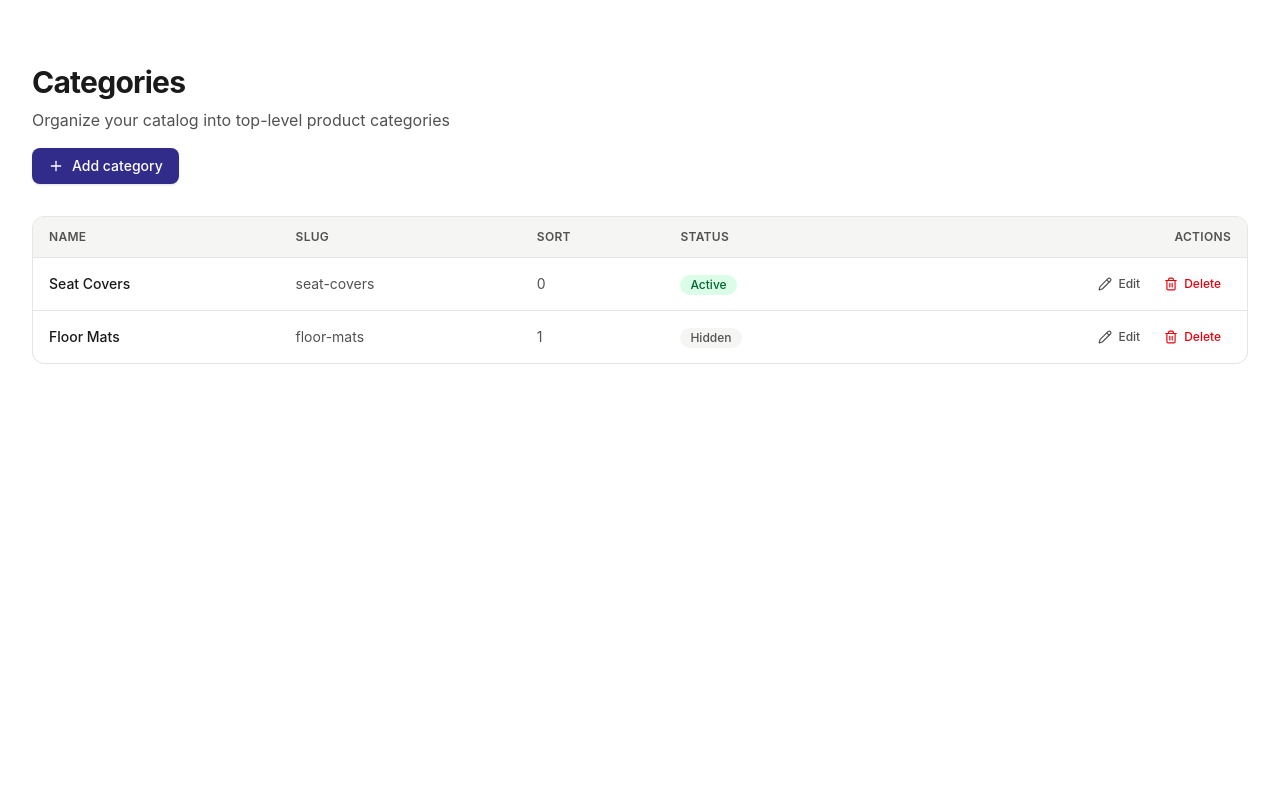
Test case: CategoriesAdminPage › requires confirmation before deleting
Expected: the text "Seat Covers" is shown, [33,258,280,310]
Click the button "Delete" in the row of "Seat Covers".
click(1193, 284)  # box [1154,270,1231,298]
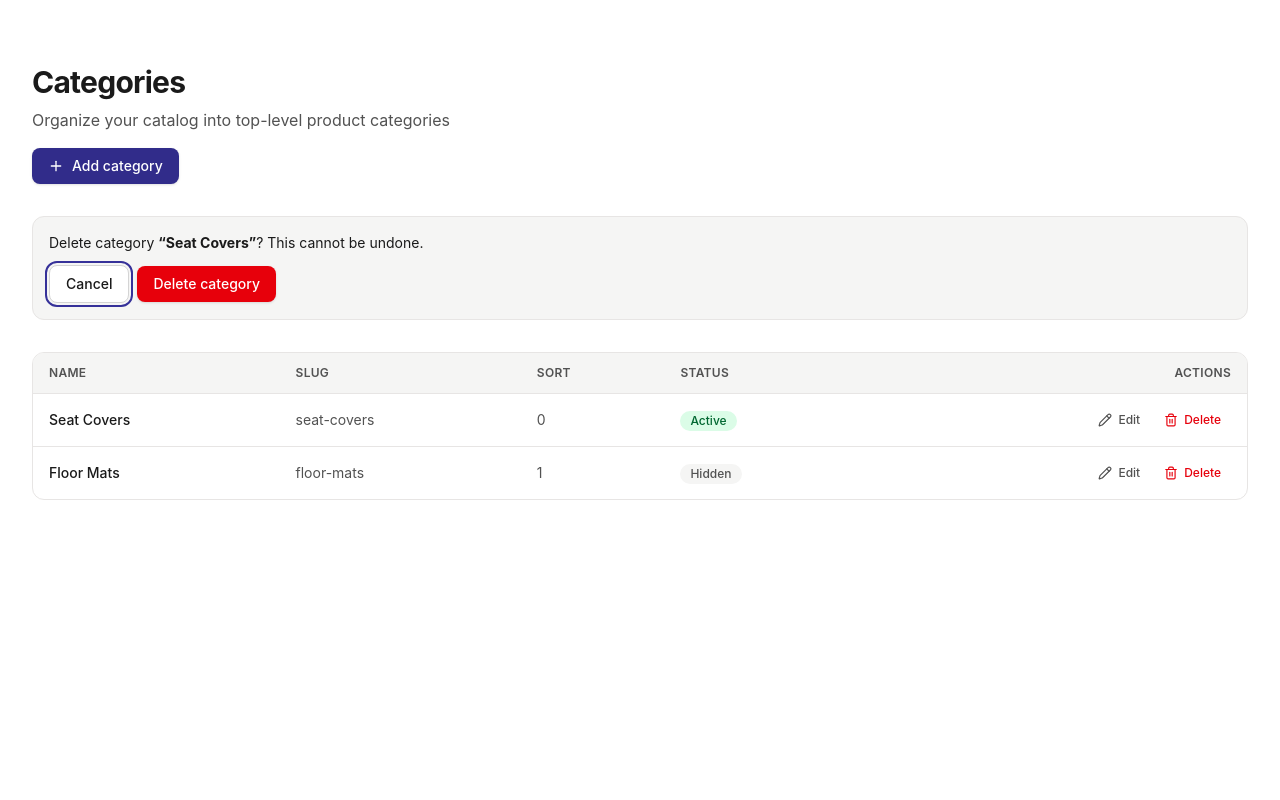
Now the text "Delete category “Seat Covers”? This cannot be undone." is shown, box [49,234,423,251]
Click the button "Cancel".
click(89, 284)  # box [49,265,130,303]
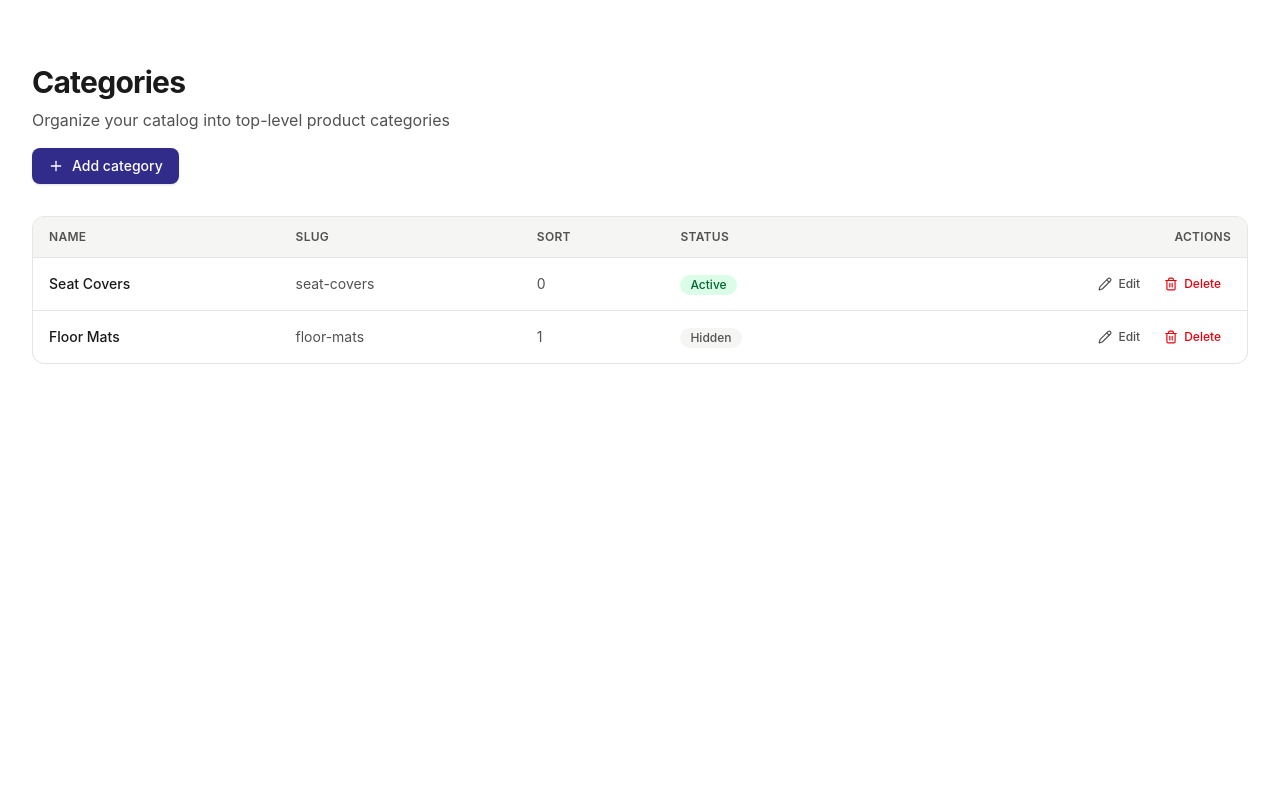
Expected: the row "Seat Covers seat-covers 0 Active Edit Delete" is shown, [33,258,1247,310]
Now the dialog is gone
